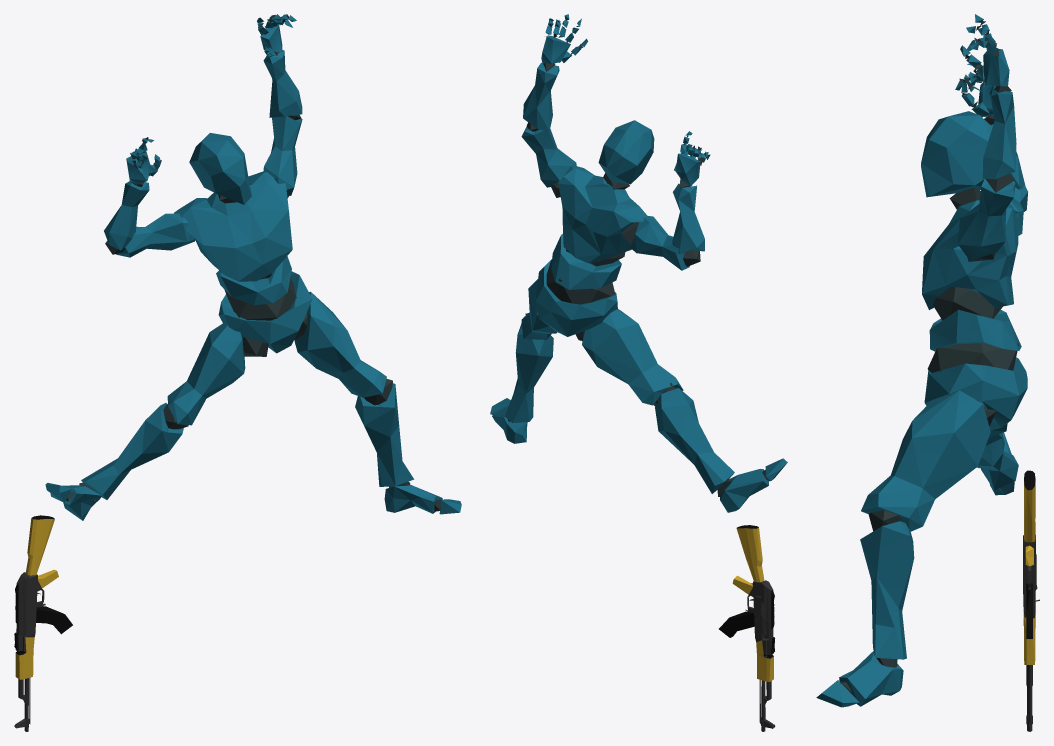
Rendered from EnemyDying_000115.obj.
3 views of the same model, side by side, from view 1: azimuth 30°, elevation 25°; view 2: azimuth 150°, elevation 25°; view 3: azimuth 270°, elevation 25° (orthographic). The views are drawn at different scales.
Visible parts, largest first — view 1: Alpha_Surface, AK-47_Cube, Alpha_Joints; view 2: Alpha_Surface, AK-47_Cube, Alpha_Joints; view 3: Alpha_Surface, Alpha_Joints, AK-47_Cube.
Part boxes in pixels (x1=…): Alpha_Surface: x1=45, y1=14, x2=461, y2=520; AK-47_Cube: x1=14, y1=515, x2=72, y2=731; Alpha_Joints: x1=66, y1=15, x2=442, y2=511; Alpha_Surface: x1=490, y1=14, x2=787, y2=512; AK-47_Cube: x1=719, y1=525, x2=775, y2=731; Alpha_Joints: x1=508, y1=18, x2=770, y2=496; Alpha_Surface: x1=816, y1=14, x2=1027, y2=707; Alpha_Joints: x1=840, y1=21, x2=1018, y2=692; AK-47_Cube: x1=1023, y1=470, x2=1039, y2=731.
Size of the model in its own units: 307 by 537 by 129.
